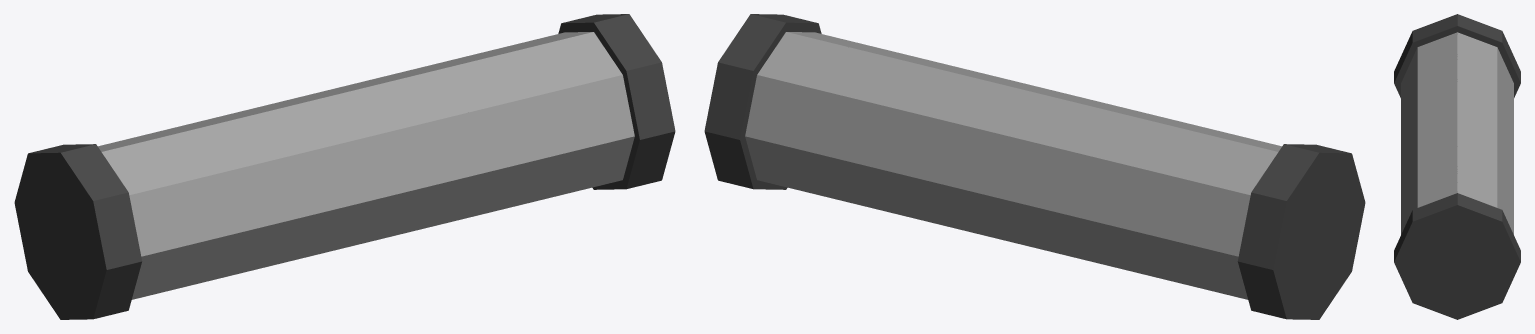
Rendered from CalShipCatWalkMid.gltf.
3 views of the same model, side by side, from view 1: azimuth 30°, elevation 25°; view 2: azimuth 150°, elevation 25°; view 3: azimuth 270°, elevation 25° (orthographic). The views are drawn at different scales.
Visible parts, largest first — view 1: cylinder; view 2: cylinder; view 3: cylinder.
Boxes of the visible parts, x1=… form: cylinder: x1=14, y1=14, x2=675, y2=319; cylinder: x1=704, y1=14, x2=1365, y2=319; cylinder: x1=1394, y1=14, x2=1520, y2=319.
Size of the model in its own units: 0.5 by 0.1404 by 0.1404.
Materials: 1 (1 with a texture image).
